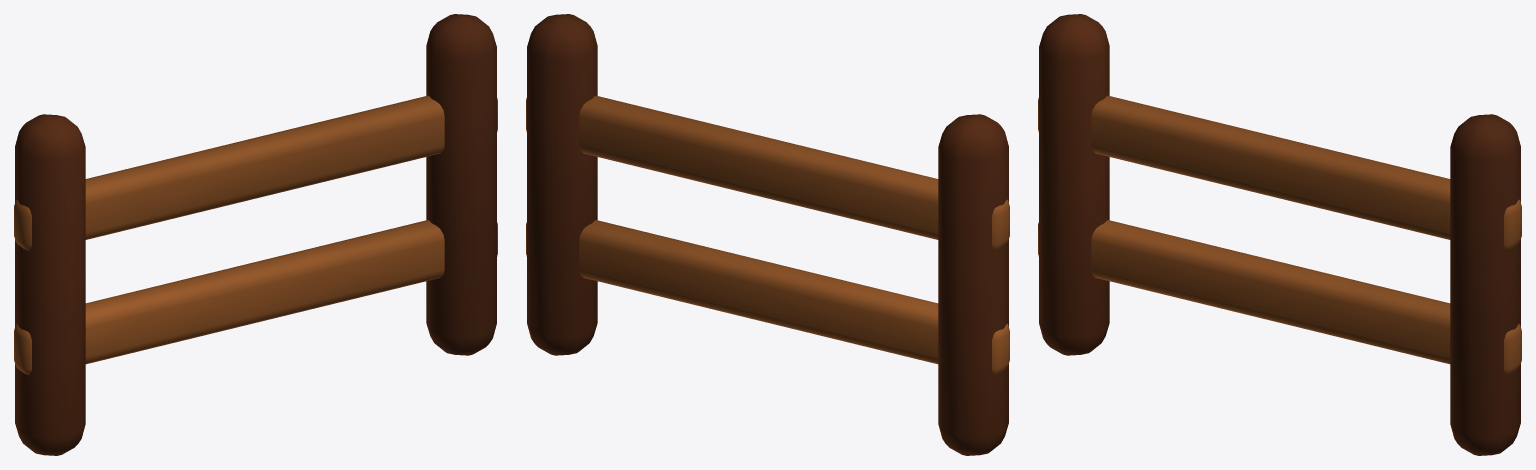
Rendered from Fence.fbx.
3 views of the same model, side by side, from view 1: azimuth 30°, elevation 25°; view 2: azimuth 150°, elevation 25°; view 3: azimuth 330°, elevation 25° (orthographic).
Parts seen in each view (by area): view 1: Fence; view 2: Fence; view 3: Fence.
Boxes of the visible parts, x1,y1,x2,y2 form: Fence: [14, 14, 497, 455]; Fence: [526, 14, 1009, 455]; Fence: [1038, 14, 1521, 455].
Size of the model in its own units: 104 by 70 by 13.
Materials: 1 (1 with a texture image).
